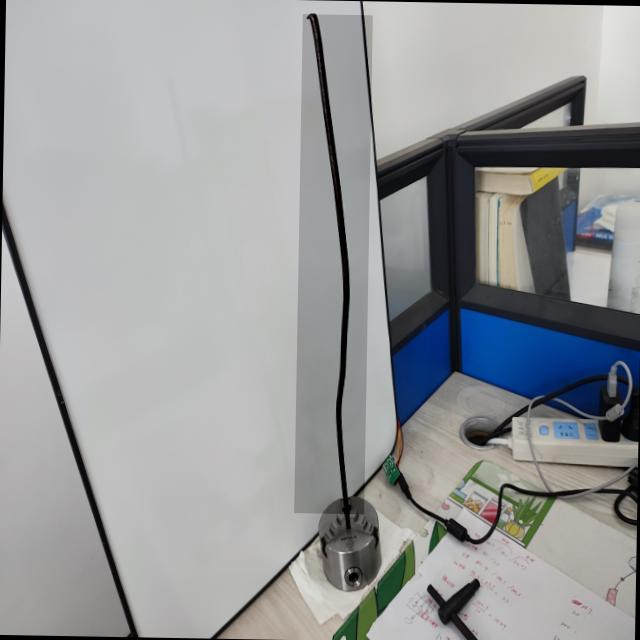plain round bar: (294, 14, 372, 514)
